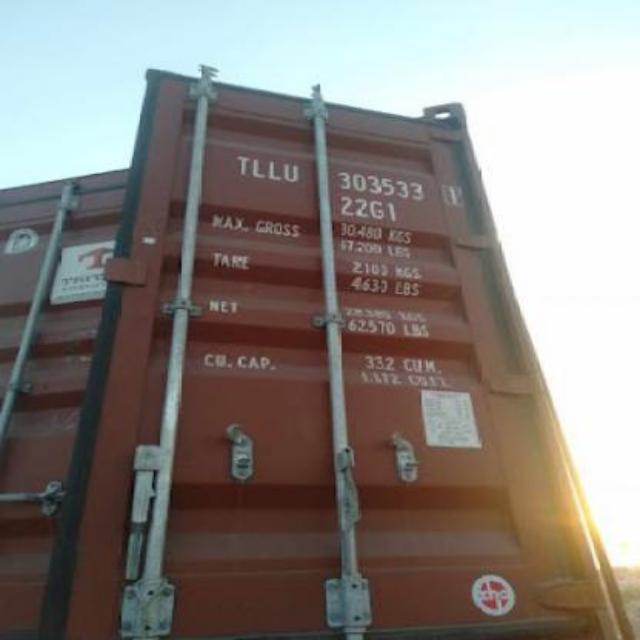0: (352, 168, 366, 194)
1: (441, 180, 462, 208)
3: (408, 172, 424, 202), (368, 169, 382, 195), (396, 174, 408, 202), (338, 165, 350, 191)
5: (382, 171, 396, 197)
L: (267, 151, 283, 187), (250, 150, 266, 182)
T: (232, 150, 250, 178)
U: (284, 160, 300, 186)
